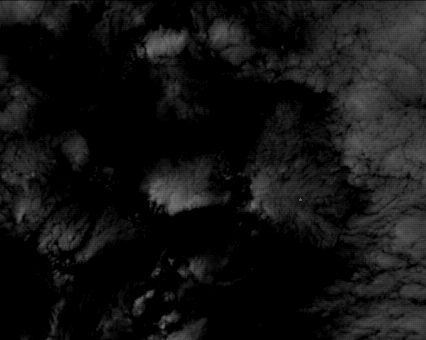dim target: (297, 197, 304, 202)
